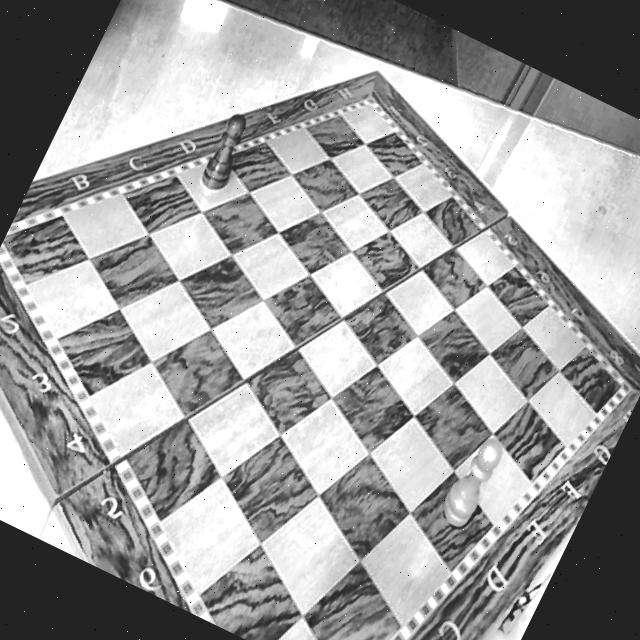black-pawn: (176, 98, 264, 215)
white-pawn: (435, 430, 509, 532)
